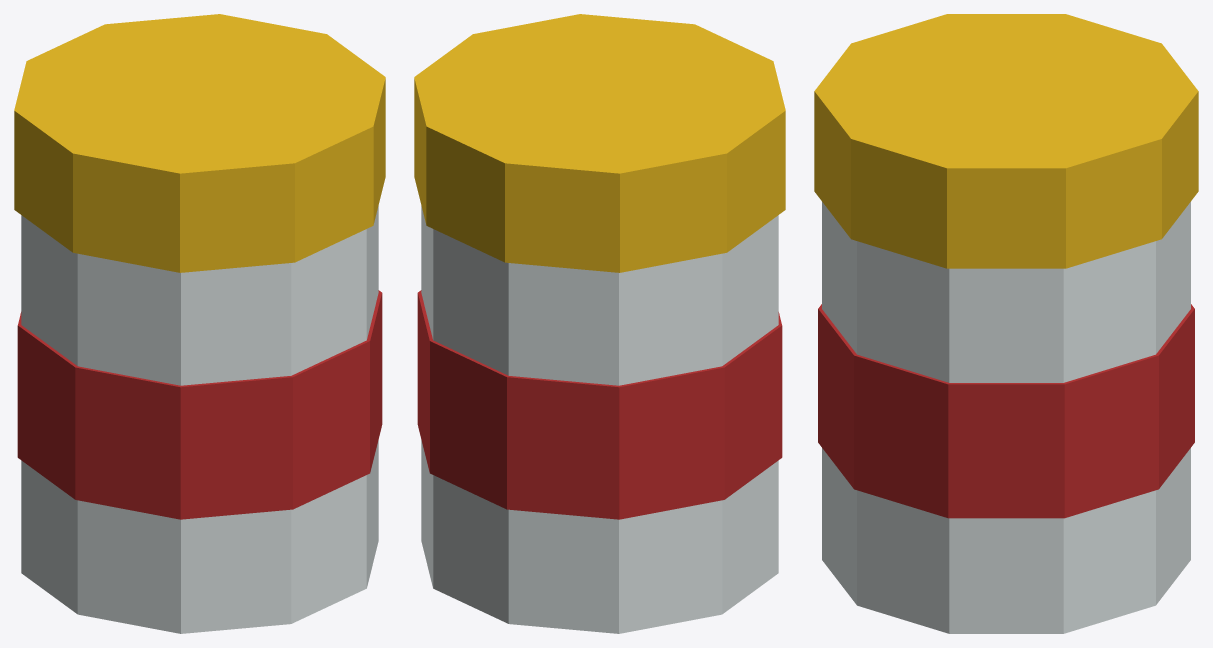
The model's file is yeast_pills.glb.
3 renders of one model, left to right at view 1: azimuth 30°, elevation 25°; view 2: azimuth 150°, elevation 25°; view 3: azimuth 270°, elevation 25°, orthographic.
Visible parts, largest first — view 1: lid_pill_lid, jar_pill_jar, label_pill_label; view 2: lid_pill_lid, jar_pill_jar, label_pill_label; view 3: lid_pill_lid, jar_pill_jar, label_pill_label.
Part boxes in pixels (left/top/right/bottom): lid_pill_lid: left=14, top=14, right=385, bottom=272; jar_pill_jar: left=21, top=206, right=378, bottom=633; label_pill_label: left=17, top=290, right=382, bottom=519; lid_pill_lid: left=414, top=14, right=785, bottom=272; jar_pill_jar: left=421, top=206, right=778, bottom=633; label_pill_label: left=417, top=290, right=782, bottom=519; lid_pill_lid: left=814, top=14, right=1198, bottom=268; jar_pill_jar: left=822, top=202, right=1190, bottom=633; label_pill_label: left=818, top=304, right=1194, bottom=518.
Size of the model in its own units: 0.0989 by 0.14 by 0.104.
